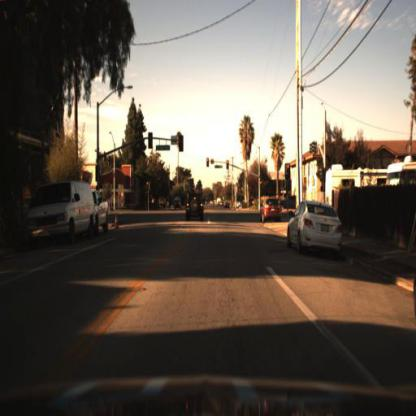car: (27, 178, 97, 242), (287, 199, 346, 253), (176, 184, 205, 222), (91, 190, 115, 234), (262, 195, 287, 224), (263, 196, 284, 227), (184, 190, 204, 221), (172, 195, 182, 217)
trafficLight-Red: (283, 160, 294, 188), (284, 160, 294, 187), (258, 176, 266, 190), (144, 179, 151, 193), (225, 159, 231, 172), (206, 156, 211, 169)
